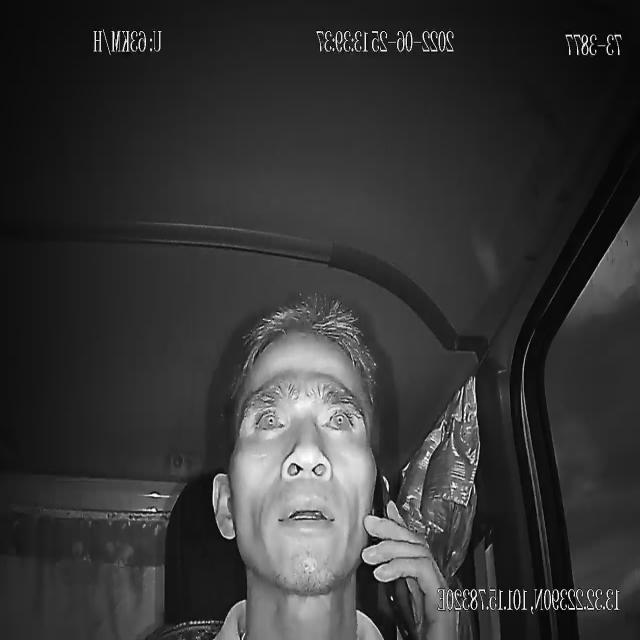phone: (371, 470, 419, 640)
